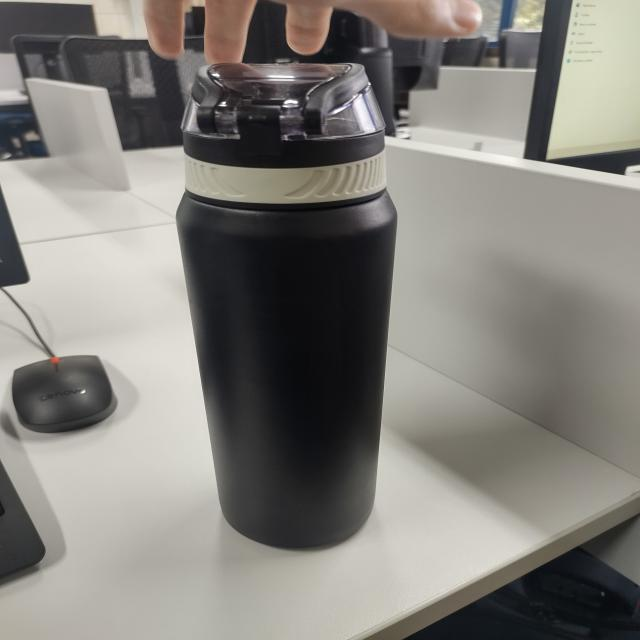Garrafa: (173, 59, 398, 549)
